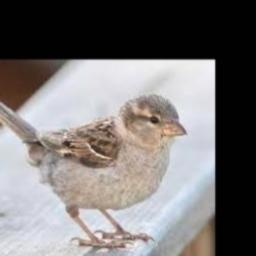Sparrow: (0, 93, 187, 247)
